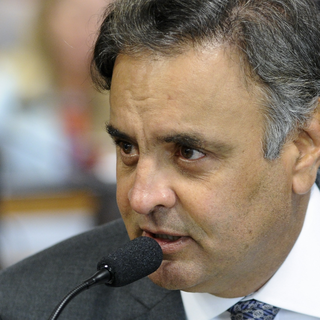eye: (167, 139, 215, 166), (113, 136, 141, 159)
